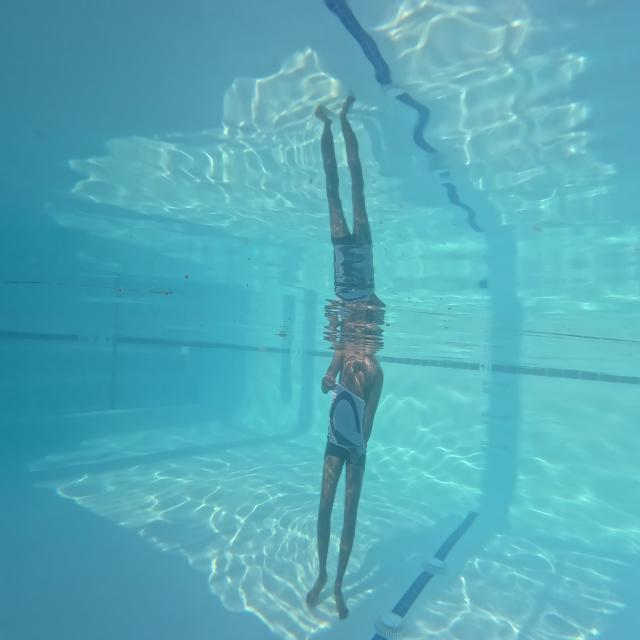blue_side: (327, 387, 366, 455)
